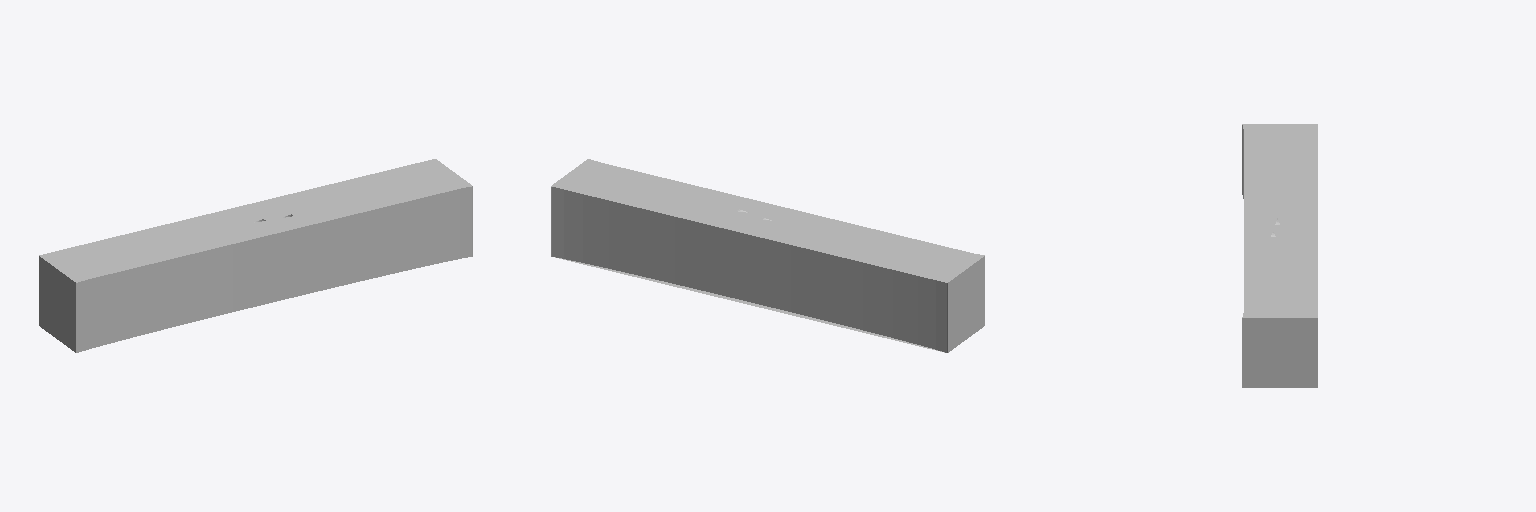
The model's file is Pinch Handle.obj.
The picture shows the model from 3 angles: view 1: azimuth 30°, elevation 25°; view 2: azimuth 150°, elevation 25°; view 3: azimuth 270°, elevation 25°; orthographic projection.
Parts seen in each view (by area): view 1: Cube_Cube.001; view 2: Cube_Cube.001; view 3: Cube_Cube.001.
Boxes of the visible parts, x1=… form: Cube_Cube.001: x1=39, y1=159, x2=472, y2=352; Cube_Cube.001: x1=551, y1=159, x2=984, y2=352; Cube_Cube.001: x1=1242, y1=124, x2=1317, y2=387.
Bounding box in the file's own units: 11.83 × 2 × 1.95.